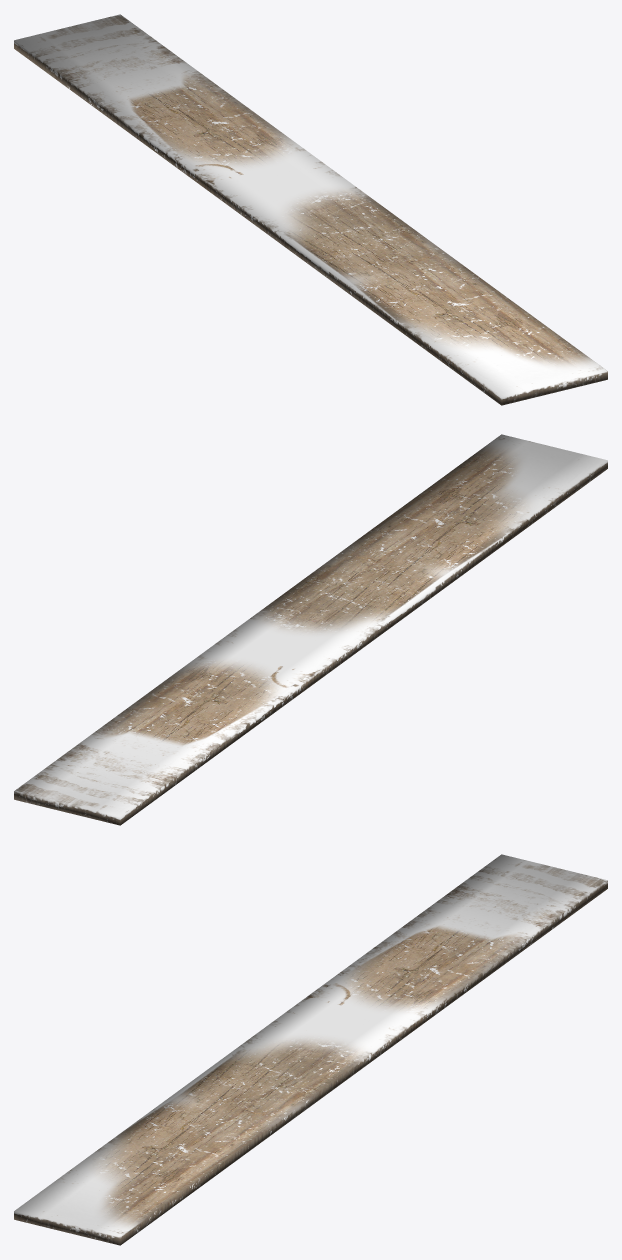
File: plank02.fbx
3 views of the same model, one above another, from view 1: azimuth 30°, elevation 25°; view 2: azimuth 150°, elevation 25°; view 3: azimuth 330°, elevation 25° (orthographic).
Parts seen in each view (by area): view 1: Box011; view 2: Box011; view 3: Box011.
Boxes of the visible parts, bbox=[...] form: Box011: bbox=[14, 14, 607, 405]; Box011: bbox=[14, 434, 607, 825]; Box011: bbox=[14, 854, 607, 1245].
Bounding box in the file's own units: 39.41 × 3 × 313.
